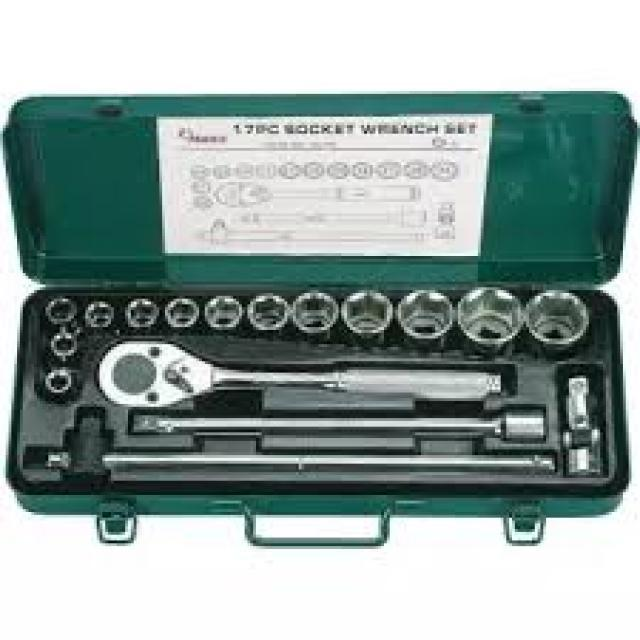wrench: (93, 336, 504, 424)
